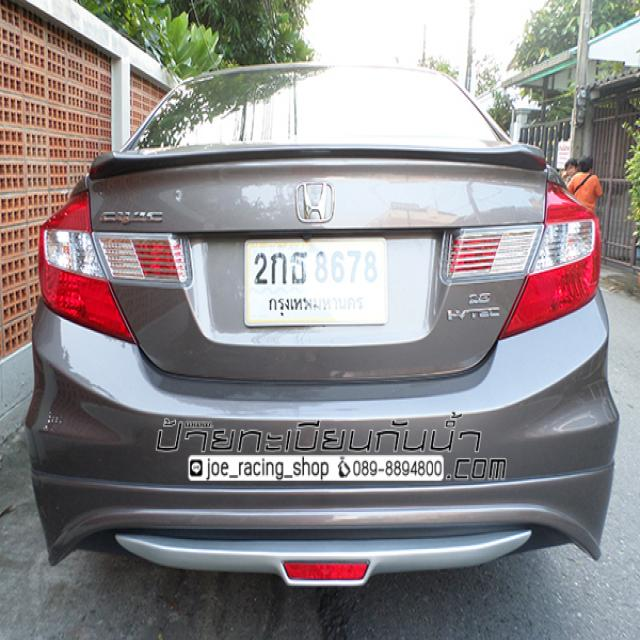license_plate: (242, 236, 388, 324)
